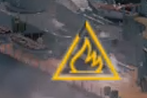1fire: (48, 45, 123, 83)
